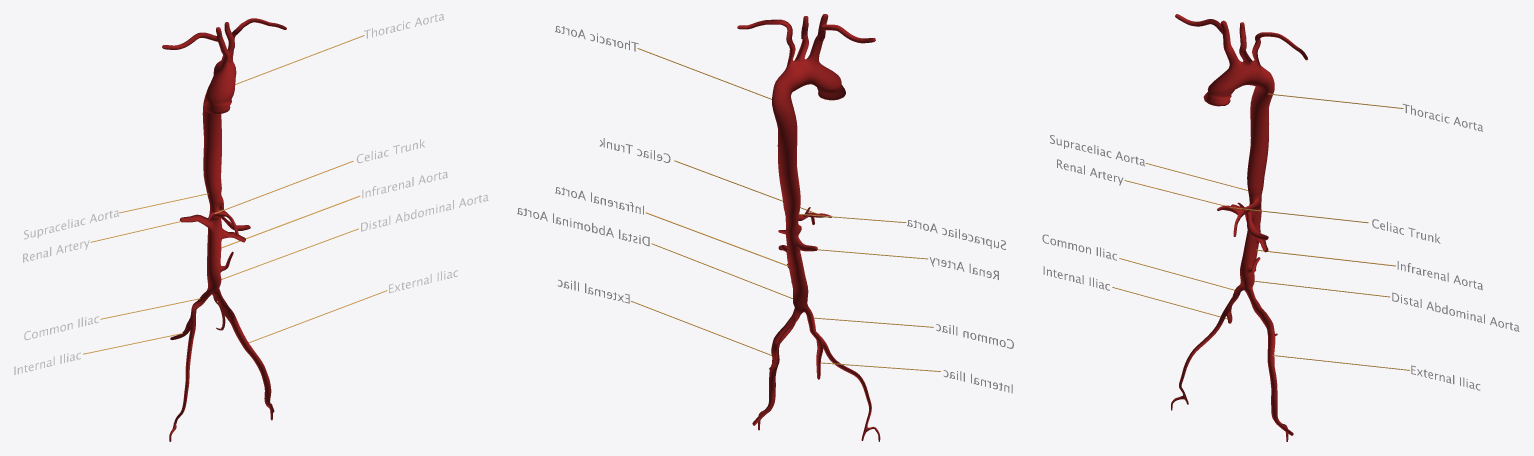
Rendered from aorta2.glb.
3 views of the same model, side by side, from view 1: azimuth 30°, elevation 25°; view 2: azimuth 150°, elevation 25°; view 3: azimuth 330°, elevation 25° (orthographic). The views are drawn at different scales.
Visible parts, largest first — view 1: a60m, distalAorta; view 2: a60m, distalAorta; view 3: a60m, distalAorta.
Boxes of the visible parts, x1,y1,x2,y2 form: a60m: (162, 18, 286, 441); distalAorta: (361, 194, 488, 231); a60m: (737, 14, 880, 441); distalAorta: (517, 208, 649, 246); a60m: (1171, 14, 1307, 441); distalAorta: (1392, 292, 1519, 331).
Size of the model in its own units: 3.44 by 2.84 by 0.4587.
